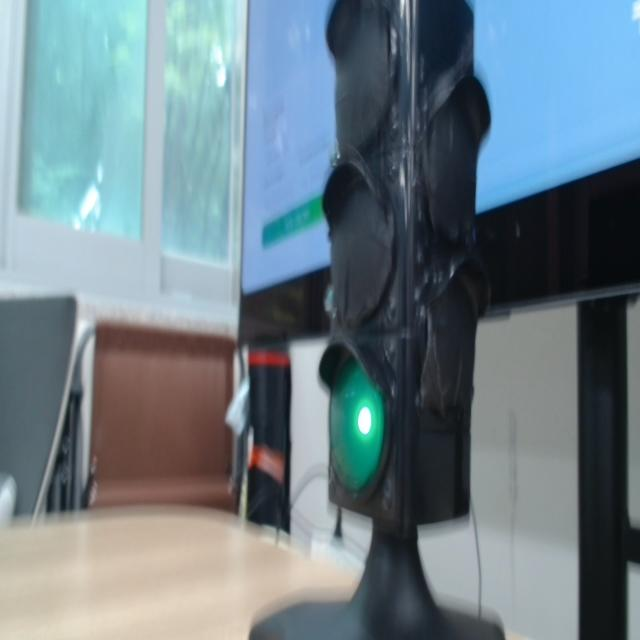green_light: (330, 359, 384, 491), (358, 407, 371, 434)
